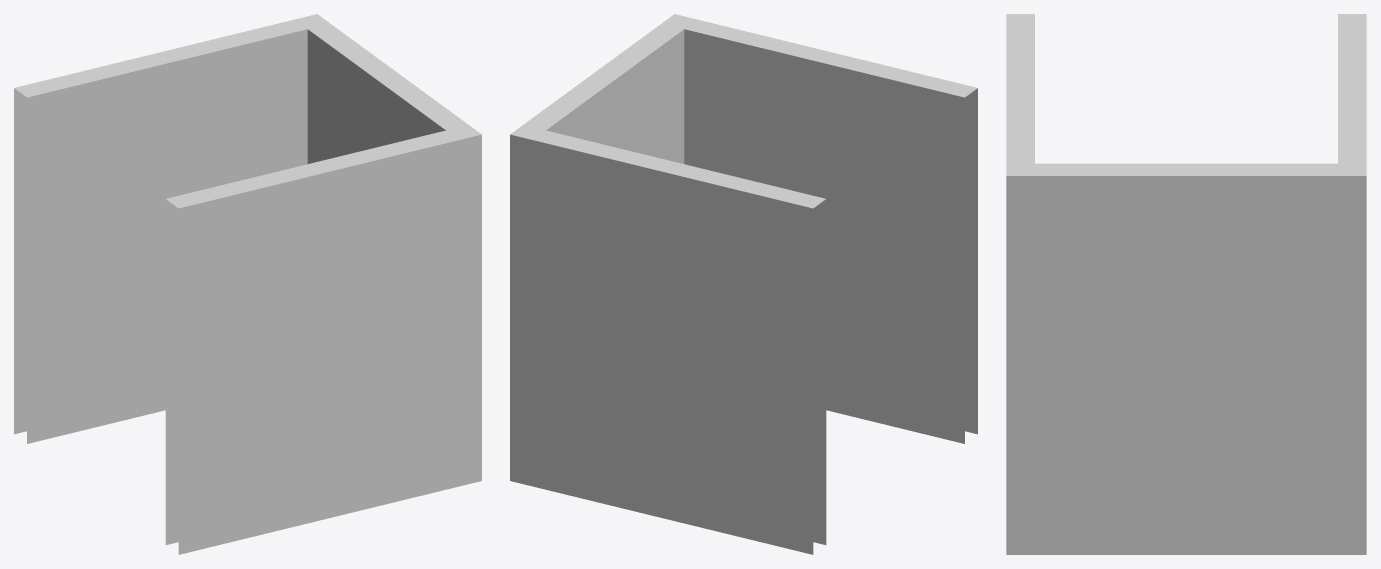
The model's file is LouDao-40.FBX.
3 renders of one model, left to right at view 1: azimuth 30°, elevation 25°; view 2: azimuth 150°, elevation 25°; view 3: azimuth 270°, elevation 25°, orthographic. The views are drawn at different scales.
Parts seen in each view (by area): view 1: LouDao-40; view 2: LouDao-40; view 3: LouDao-40.
Part boxes in pixels (bbox=[...]): LouDao-40: bbox=[14, 14, 481, 554]; LouDao-40: bbox=[510, 14, 977, 554]; LouDao-40: bbox=[1006, 14, 1366, 554].
Bounding box in the file's own units: 2931 × 3200 × 2757.
